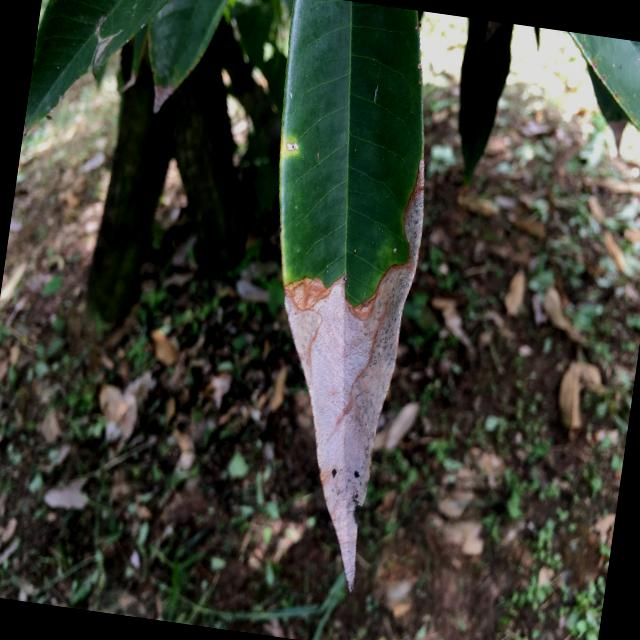Leaf Blight: (205, 0, 463, 609)
